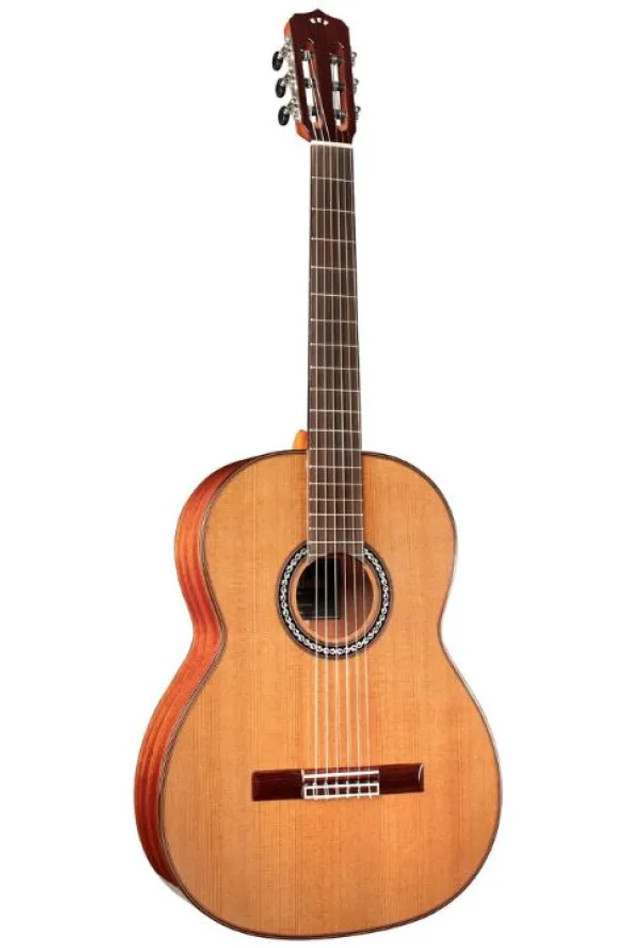guitar: (130, 0, 509, 946), (132, 430, 505, 943)
